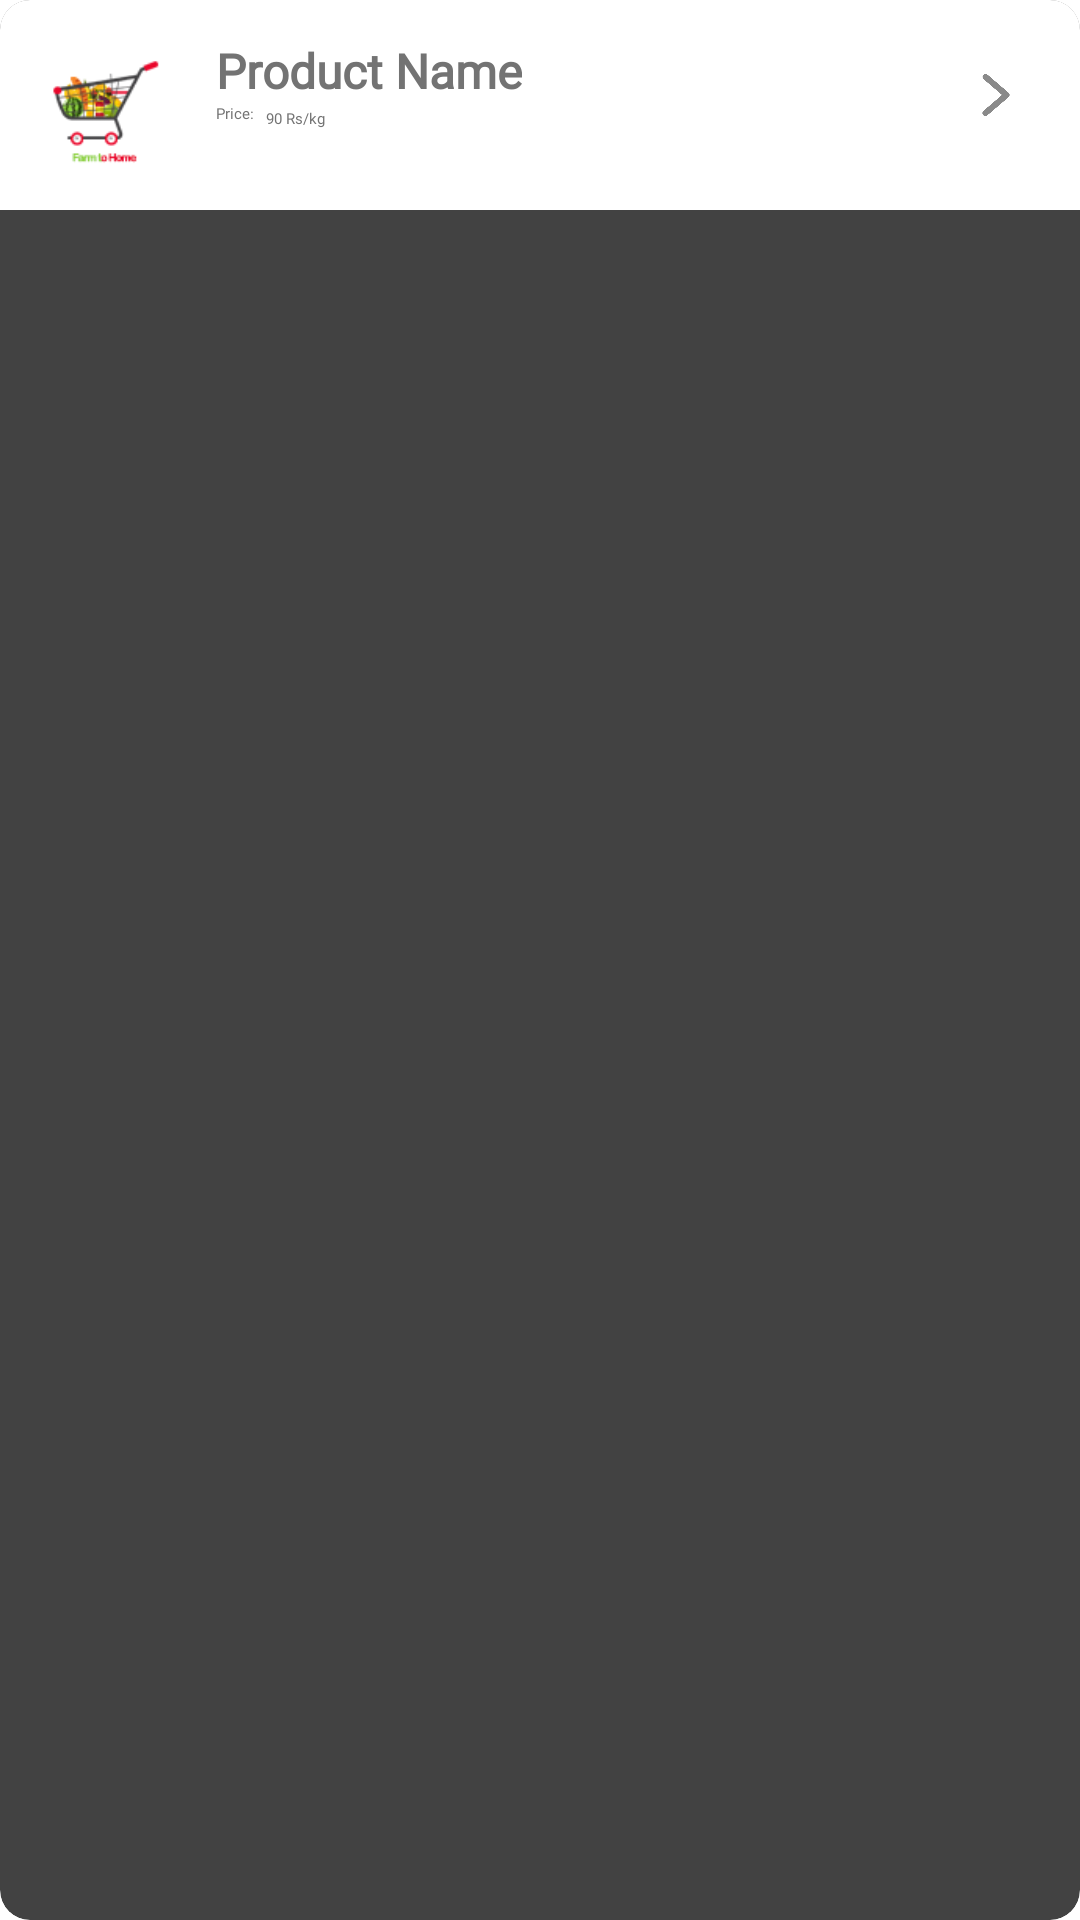

Locate icon controls on the screen. Image size 1080w x 1920h, boxes as (x1, y1, x2, y2).
next: (982, 74, 1010, 116)
